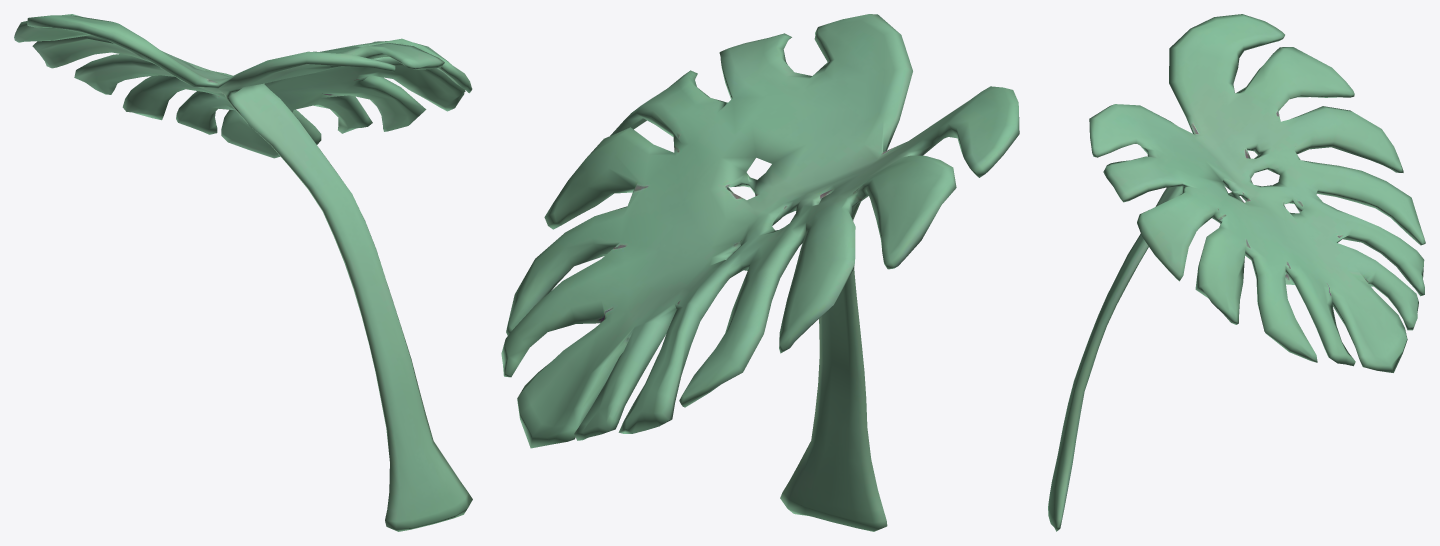
Rendered from monstera_leaf_mature.glb.
3 views of the same model, side by side, from view 1: azimuth 30°, elevation 25°; view 2: azimuth 150°, elevation 25°; view 3: azimuth 270°, elevation 25° (orthographic). The views are drawn at different scales.
Parts seen in each view (by area): view 1: tripo_node_c278ce50-033d-4f78-b453-e77db0654453; view 2: tripo_node_c278ce50-033d-4f78-b453-e77db0654453; view 3: tripo_node_c278ce50-033d-4f78-b453-e77db0654453.
Part boxes in pixels (<box>): tripo_node_c278ce50-033d-4f78-b453-e77db0654453: <box>14,14,472,531</box>; tripo_node_c278ce50-033d-4f78-b453-e77db0654453: <box>501,14,1019,531</box>; tripo_node_c278ce50-033d-4f78-b453-e77db0654453: <box>1048,14,1425,531</box>.
Bounding box in the file's own units: 0.8646 × 0.9969 × 0.8527.
Materials: 1 (1 with a texture image).
